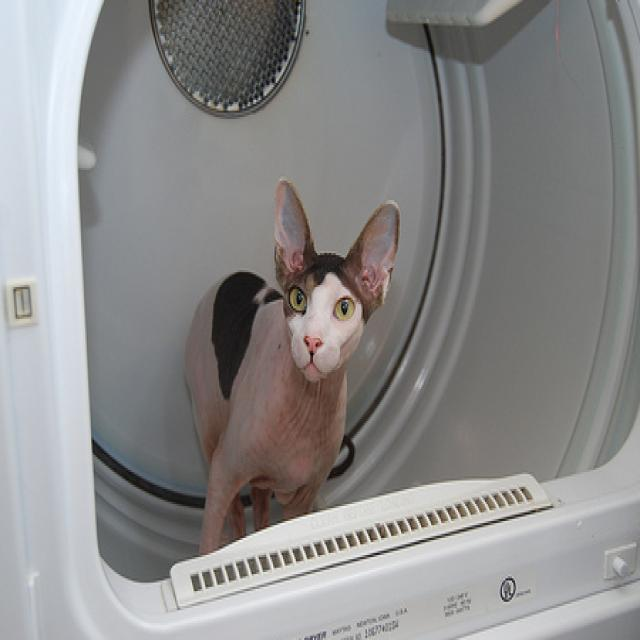Sphynx: (182, 174, 404, 558)
